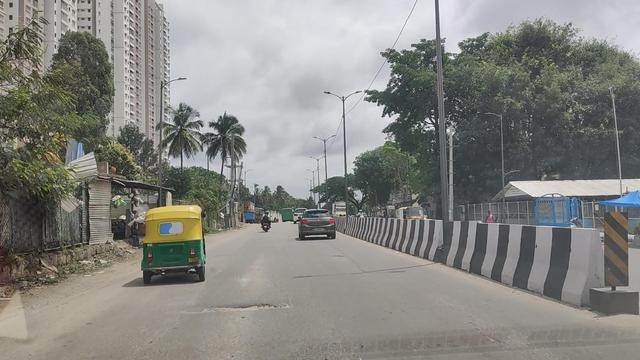LMV: (144, 207, 202, 282), (298, 211, 333, 236), (261, 211, 271, 232)
RoadDamages: (192, 297, 295, 314)
